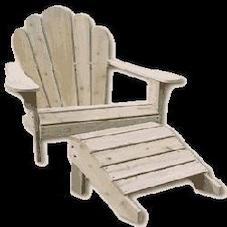chair: (1, 3, 226, 221)
